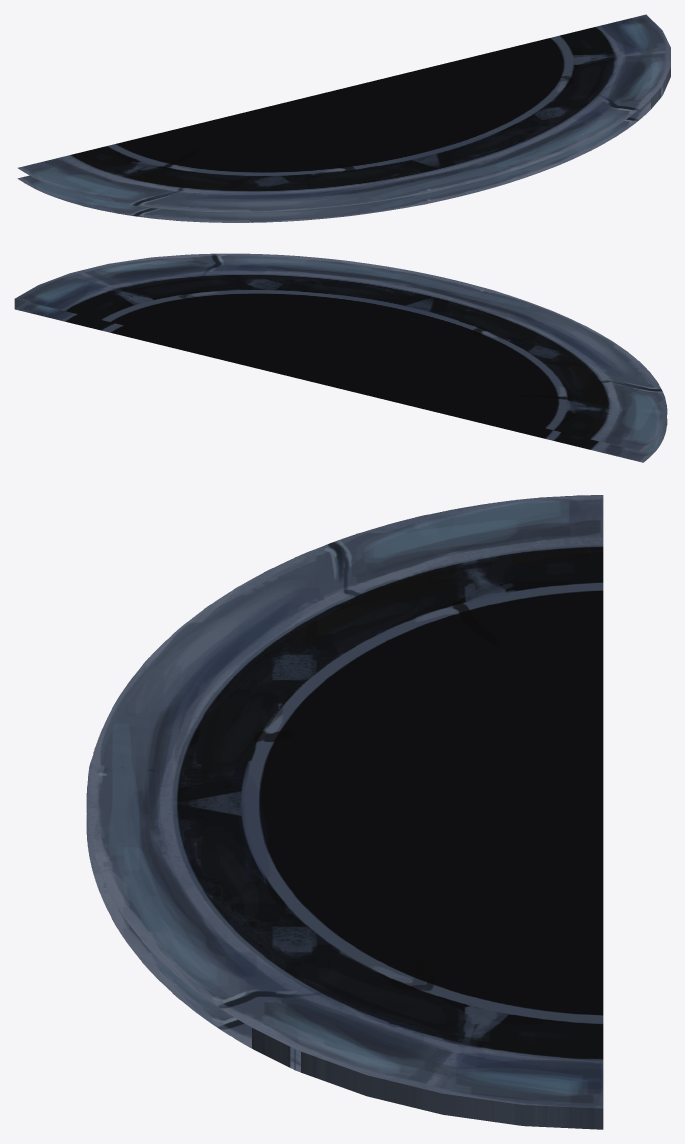
Rendered from LifeO.fbx.
The picture shows the model from 3 angles, top to bottom: view 1: azimuth 30°, elevation 25°; view 2: azimuth 150°, elevation 25°; view 3: azimuth 270°, elevation 25°; orthographic projection. The views are drawn at different scales.
Visible parts, largest first — view 1: O1_life_big; view 2: O1_life_big; view 3: O1_life_big.
Part boxes in pixels (x1,y1,x2,y2): O1_life_big: [17, 14, 670, 222]; O1_life_big: [14, 253, 667, 462]; O1_life_big: [86, 495, 603, 1129].
Bounding box in the file's own units: 3.32 × 0.0531 × 1.2.
